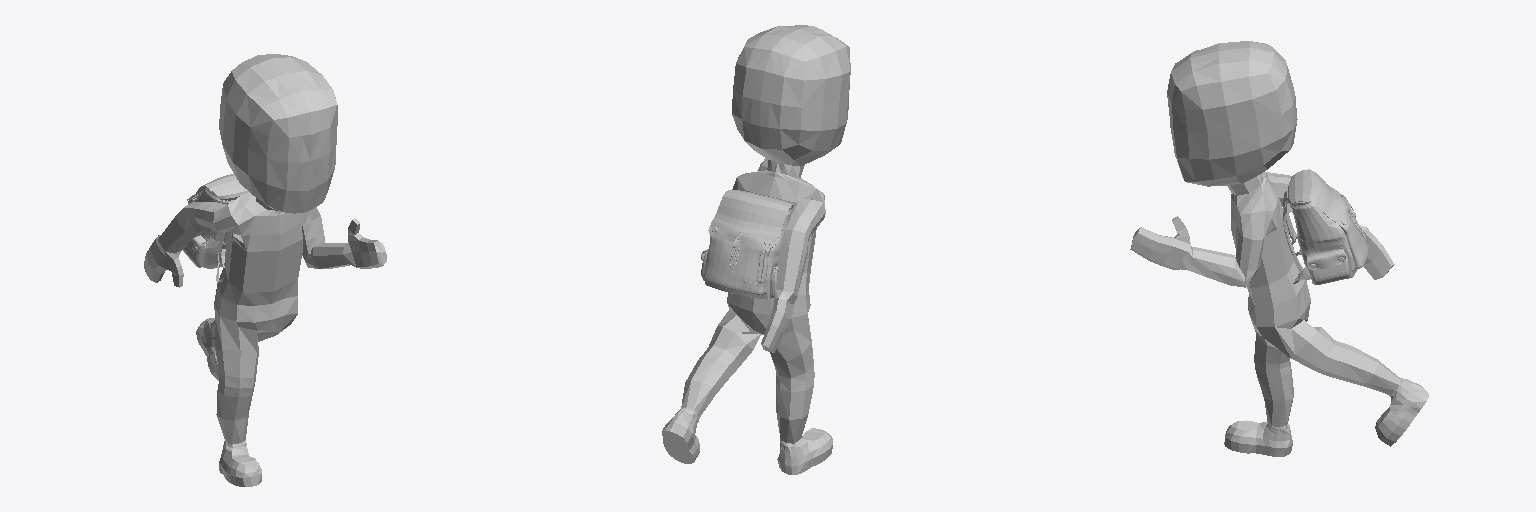
File: player_correndo_1.obj
The picture shows the model from 3 angles: view 1: azimuth 30°, elevation 25°; view 2: azimuth 150°, elevation 25°; view 3: azimuth 270°, elevation 25°; orthographic projection.
Visible parts, largest first — view 1: characterMedium, Cube; view 2: characterMedium, Cube; view 3: characterMedium, Cube.
Part boxes in pixels (x1,y1,x2,y2): characterMedium: (144, 54, 386, 486); Cube: (183, 174, 248, 281); characterMedium: (662, 25, 850, 474); Cube: (701, 190, 793, 299); characterMedium: (1130, 41, 1428, 456); Cube: (1283, 169, 1368, 284).
Size of the model in its own units: 1.16 by 3.73 by 2.43.